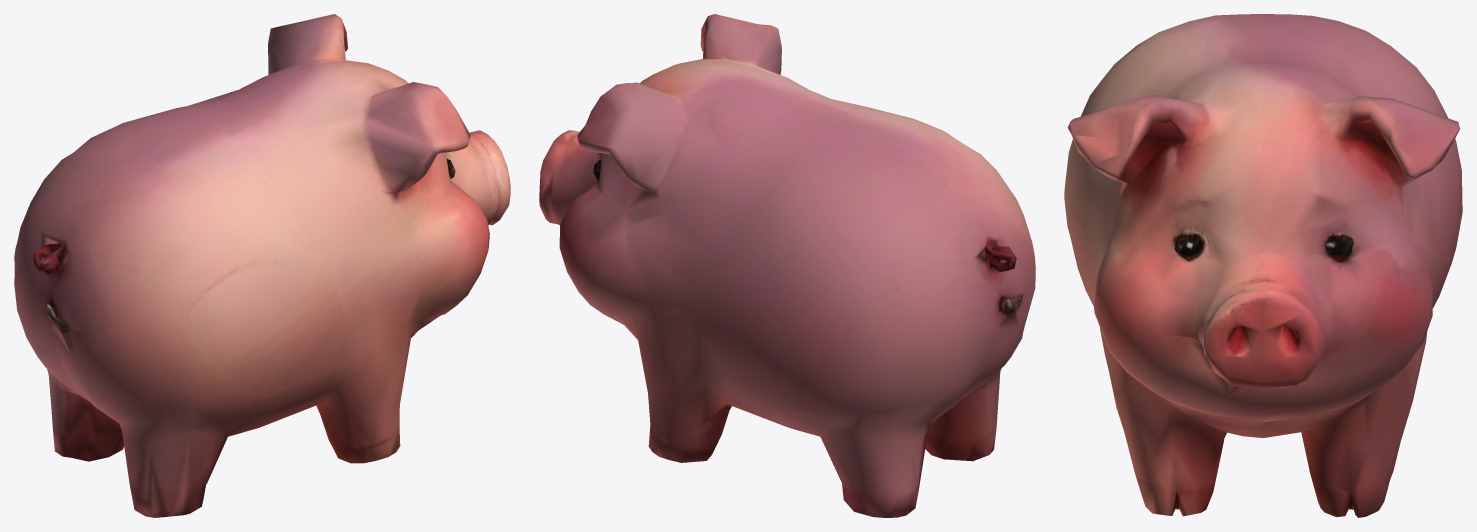
File: pig.glb
The picture shows the model from 3 angles, left to right: view 1: azimuth 30°, elevation 25°; view 2: azimuth 150°, elevation 25°; view 3: azimuth 270°, elevation 25°; orthographic projection. The views are drawn at different scales.
Visible parts, largest first — view 1: tripo_node_58233056-311a-48ce-b13d-50287dd99635; view 2: tripo_node_58233056-311a-48ce-b13d-50287dd99635; view 3: tripo_node_58233056-311a-48ce-b13d-50287dd99635.
Part boxes in pixels (box(x1,y1,x2,y2)): tripo_node_58233056-311a-48ce-b13d-50287dd99635: box(14, 14, 510, 517); tripo_node_58233056-311a-48ce-b13d-50287dd99635: box(539, 14, 1035, 517); tripo_node_58233056-311a-48ce-b13d-50287dd99635: box(1064, 14, 1462, 517).
Bounding box in the file's own units: 0.9975 × 0.7665 × 0.6318.
1 material, 1 textured.
